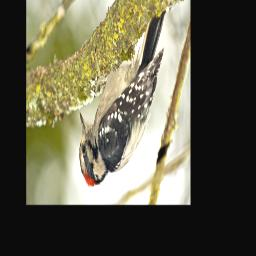Woodpecker: (79, 4, 174, 190)
